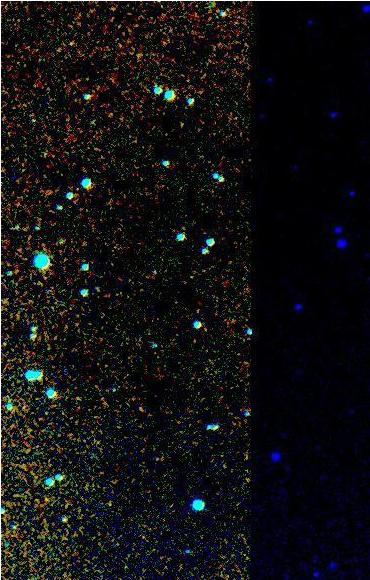star: (42, 35, 72, 65)
